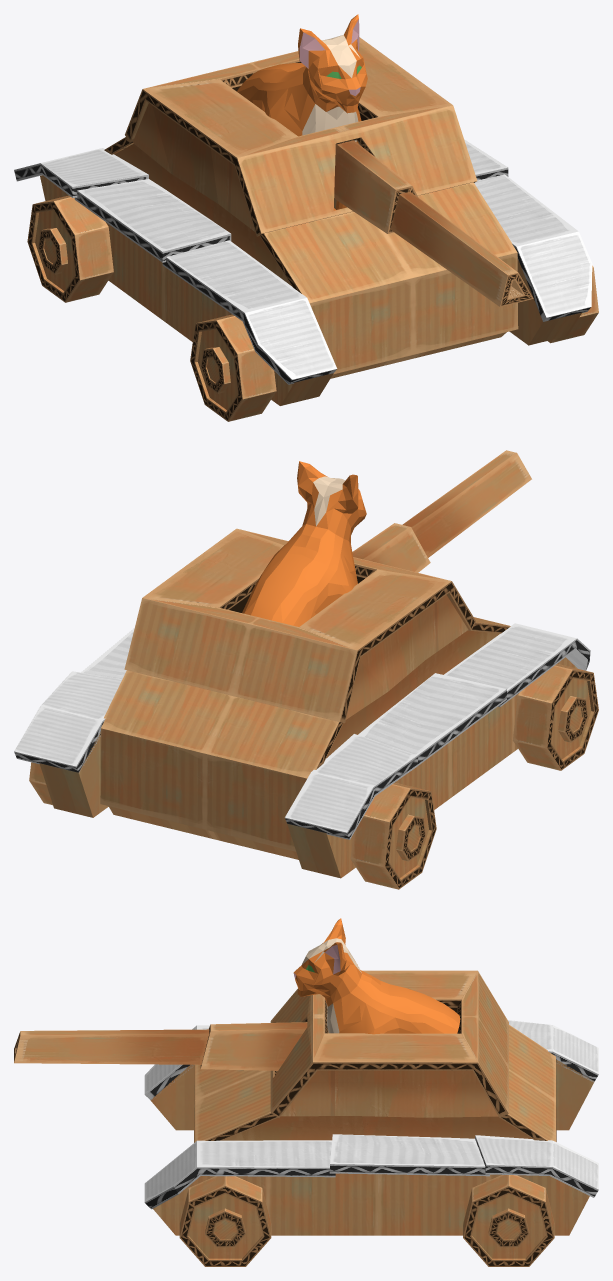
The model's file is cat_tank2.FBX.
3 views of the same model, one above another, from view 1: azimuth 30°, elevation 25°; view 2: azimuth 150°, elevation 25°; view 3: azimuth 270°, elevation 25° (orthographic). The views are drawn at different scales.
Parts seen in each view (by area): view 1: tank, tank_team, cat; view 2: tank, tank_team, cat; view 3: tank, tank_team, cat.
Boxes of the visible parts, x1=… form: tank: x1=27, y1=37, x2=598, y2=421; tank_team: x1=14, y1=139, x2=592, y2=384; cat: x1=237, y1=14, x2=367, y2=210; tank: x1=29, y1=450, x2=598, y2=889; tank_team: x1=14, y1=623, x2=590, y2=839; cat: x1=242, y1=461, x2=366, y2=626; tank: x1=14, y1=970, x2=594, y2=1266; tank_team: x1=144, y1=1020, x2=598, y2=1209; cat: x1=293, y1=918, x2=460, y2=1034.
Size of the model in its own units: 19.53 by 15.39 by 31.23.
Materials: 3 (3 with a texture image).
